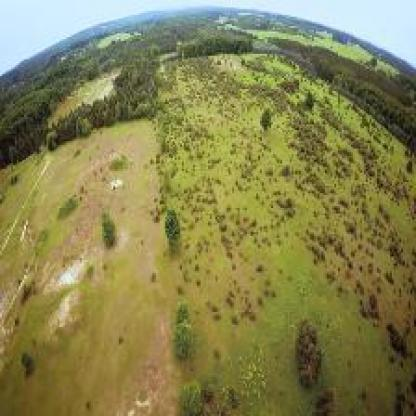other: (43, 228, 129, 329)
